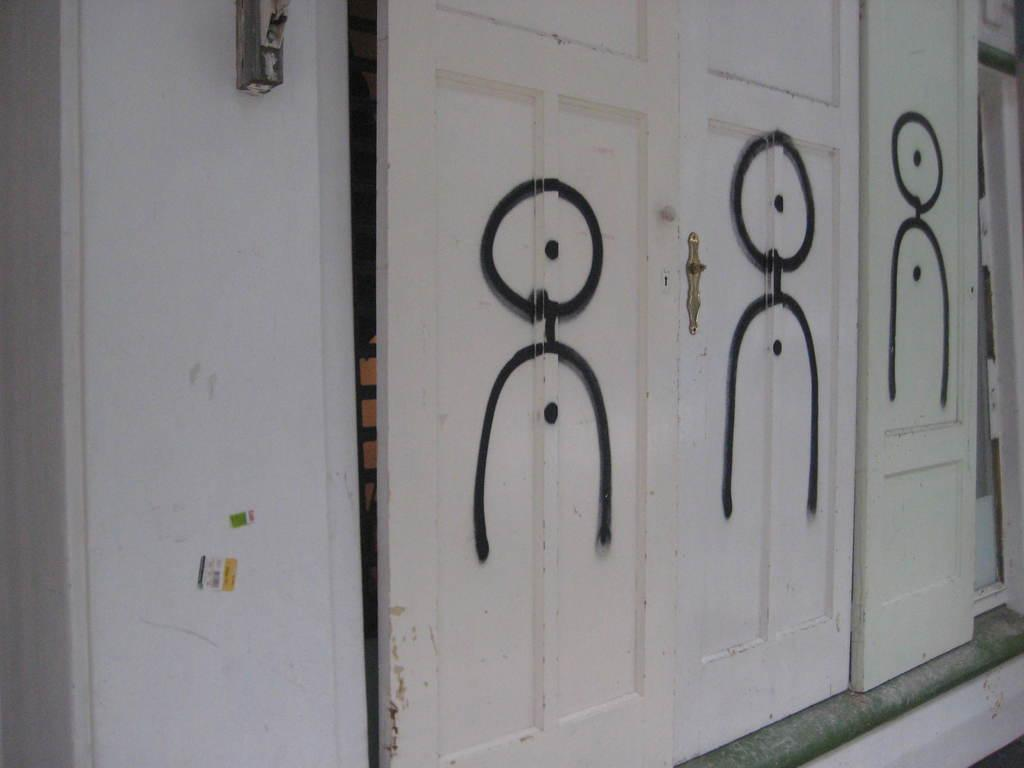door: (77, 14, 346, 764), (413, 31, 681, 750), (681, 56, 852, 698), (870, 22, 968, 660)
handle: (683, 237, 703, 324)
